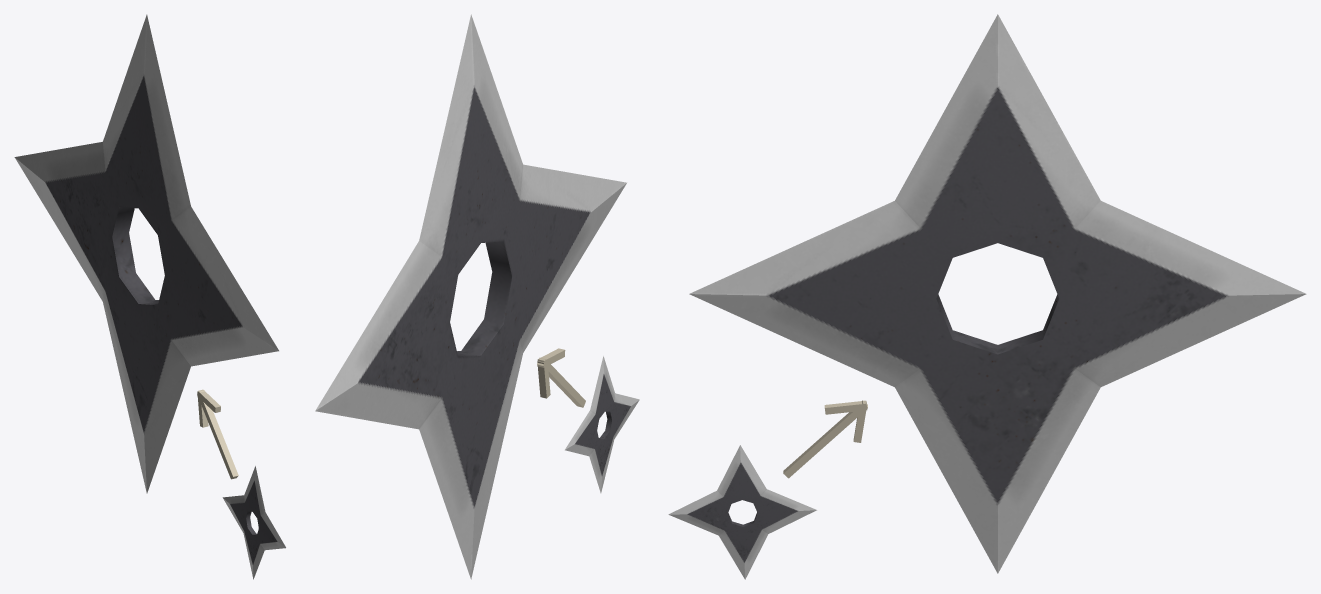
Rendered from SM_Shuriken_Big.fbx.
3 views of the same model, side by side, from view 1: azimuth 30°, elevation 25°; view 2: azimuth 150°, elevation 25°; view 3: azimuth 270°, elevation 25° (orthographic). The views are drawn at different scales.
Parts seen in each view (by area): view 1: Shuriken_Big; view 2: Shuriken_Big; view 3: Shuriken_Big.
Boxes of the visible parts, x1,y1,x2,y2 form: Shuriken_Big: (14,14,285,579); Shuriken_Big: (315,14,639,579); Shuriken_Big: (668,14,1306,579).
Size of the model in its own units: 4.04 by 111 by 114.
